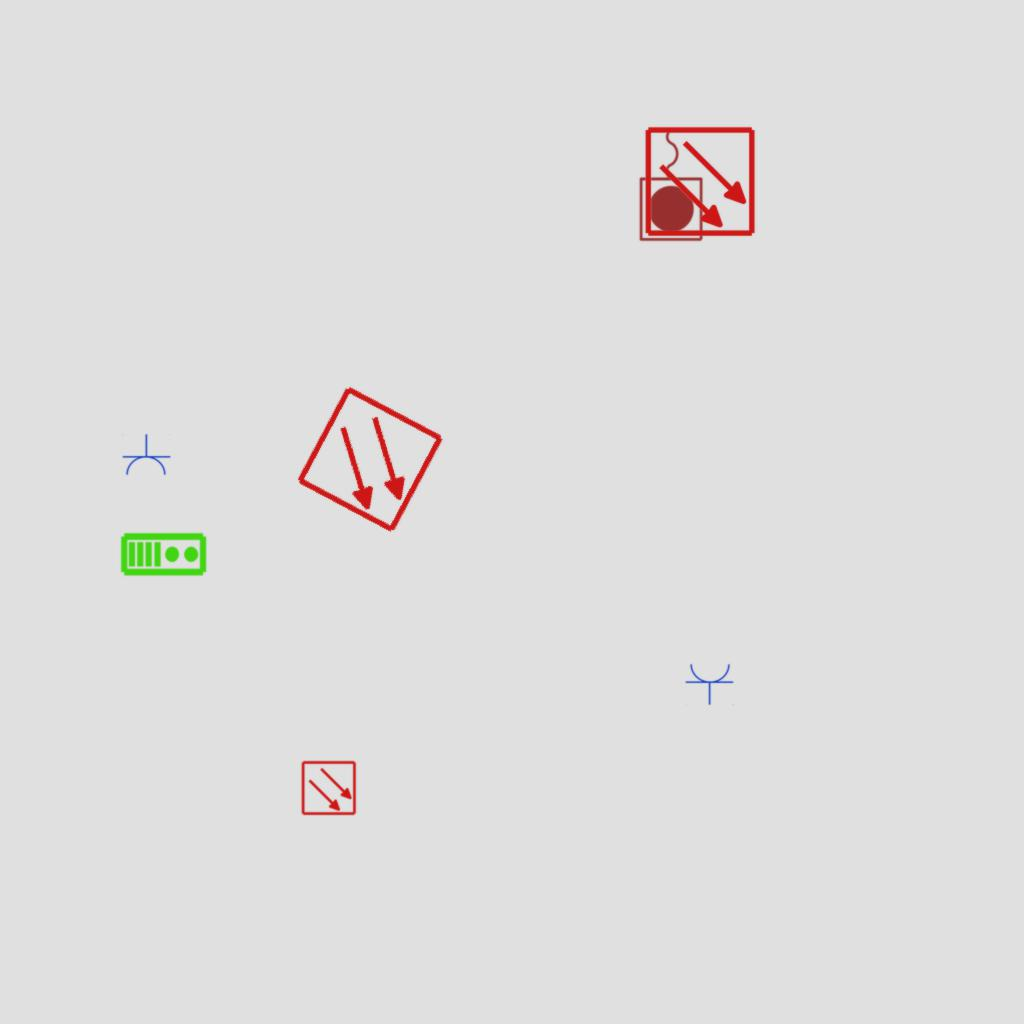Gegensprechanlage_mit_Video: (120, 530, 208, 577)
RMO_Rauchmelder_optischer: (294, 383, 447, 536), (644, 125, 757, 238), (301, 760, 357, 816)
Schukosteckdose_einfach: (685, 662, 735, 705), (121, 434, 171, 477)
Zugtaster: (636, 123, 708, 245)
